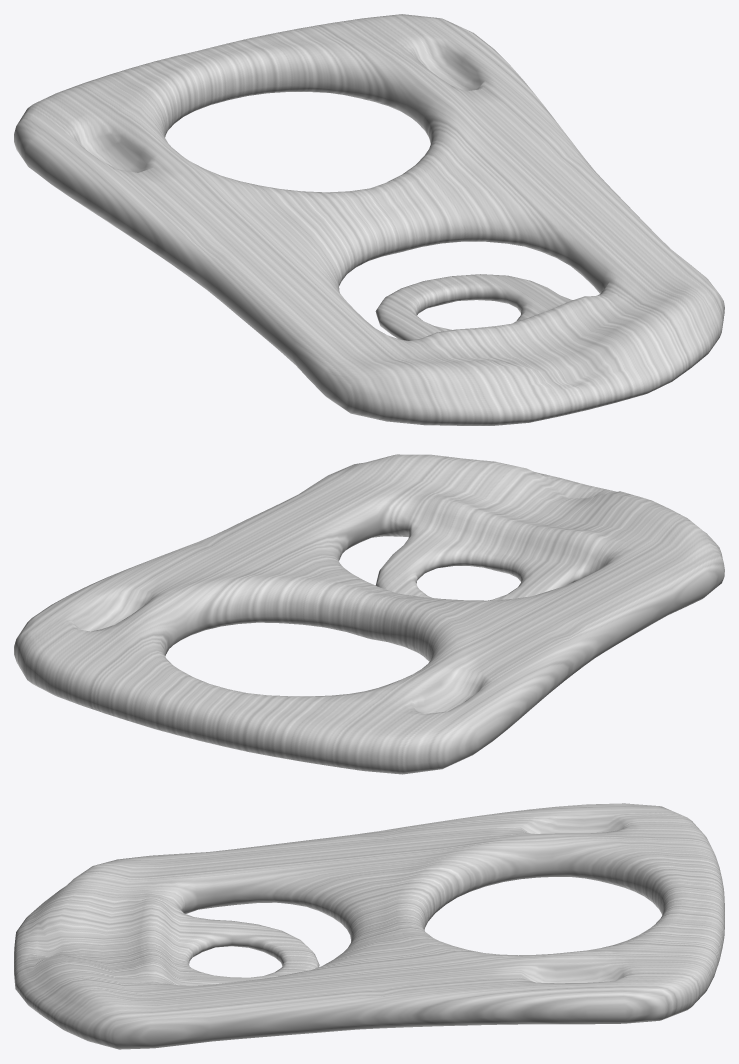
The model's file is Can Tab.gltf.
The picture shows the model from 3 angles, top to bottom: view 1: azimuth 30°, elevation 25°; view 2: azimuth 150°, elevation 25°; view 3: azimuth 270°, elevation 25°; orthographic projection. The views are drawn at different scales.
Parts seen in each view (by area): view 1: Tab2; view 2: Tab2; view 3: Tab2.
Boxes of the visible parts, x1,y1,x2,y2 form: Tab2: (14, 14, 724, 425); Tab2: (14, 454, 724, 774); Tab2: (14, 803, 724, 1049).
Bounding box in the file's own units: 1.3 × 0.2605 × 1.95.
1 material, 1 textured.
